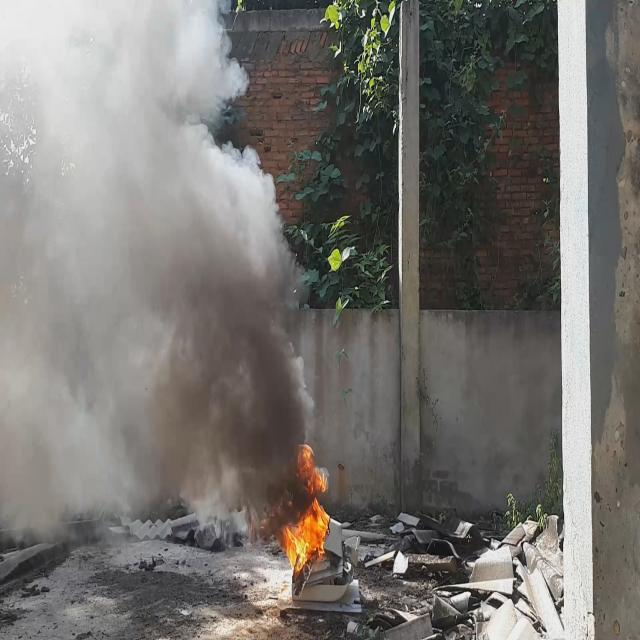Fire: (278, 444, 332, 574)
Smoke: (0, 0, 321, 549)
